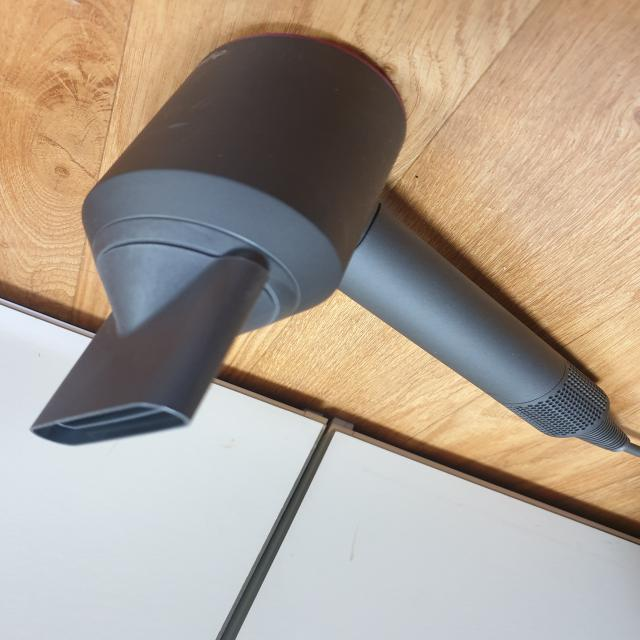dryer: (27, 34, 640, 466)
